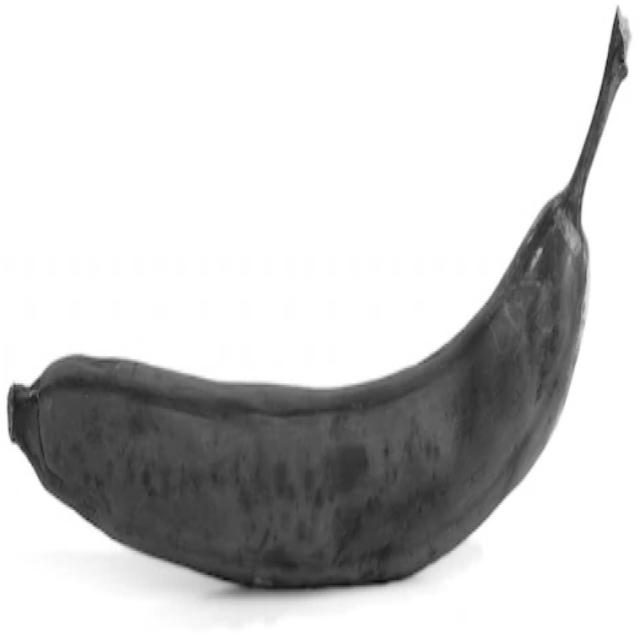Rotten: (0, 0, 632, 594)
